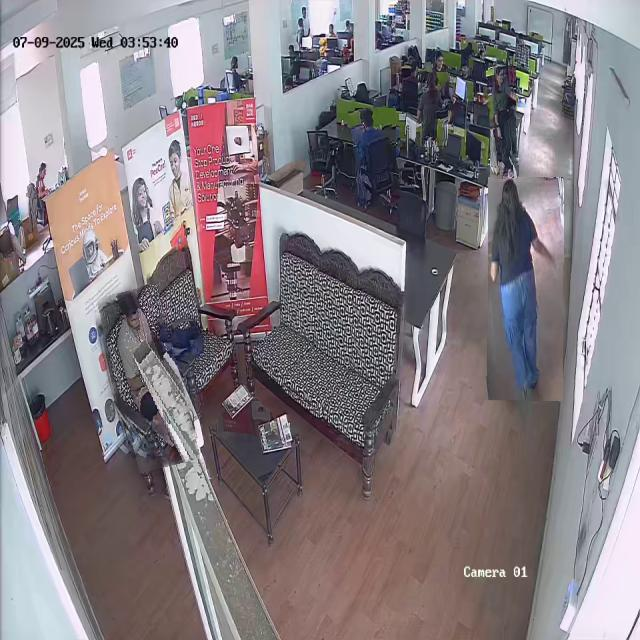person: (487, 177, 564, 402), (107, 286, 190, 471), (352, 107, 399, 207), (488, 66, 518, 179), (417, 72, 449, 147), (28, 161, 56, 201)
